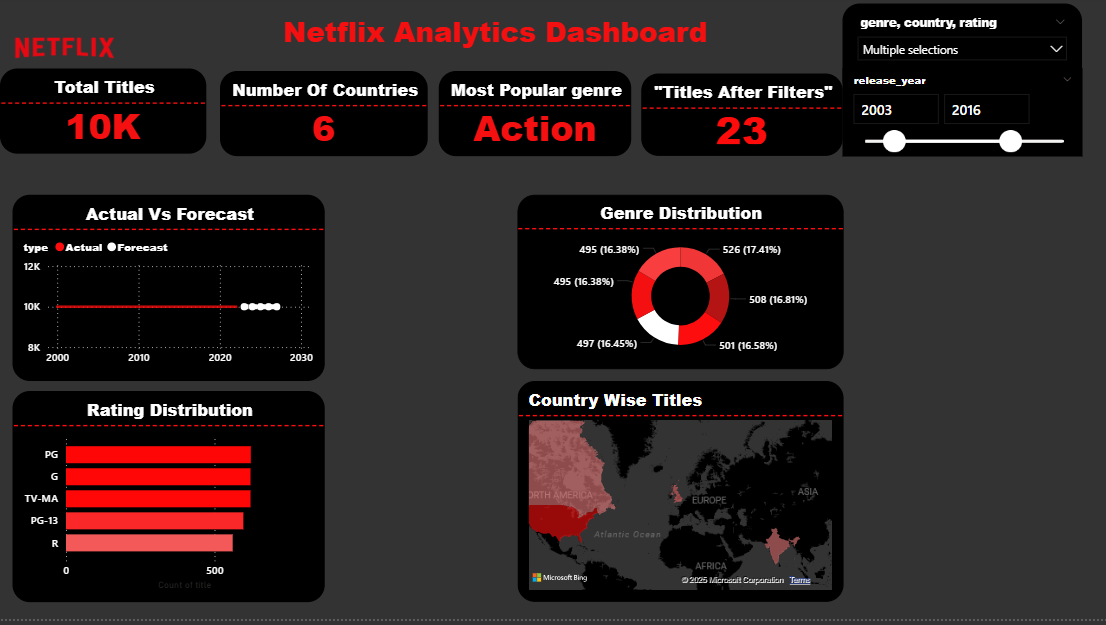

The page's visual inventory and layout, read from the dashboard file:
{"tool":"powerbi","page":{"name":"Dashboard","canvas":[1280,720],"ordinal":0},"visuals":[{"type":"card","title":"Total Titles","fields":{"Values":["Actual Vs Forecast.Total Titles"]},"box":[0,83.7,238.1,98.1],"z":0},{"type":"card","title":"Number Of Countries","fields":{"Values":["Actual Vs Forecast.Number of Countries"]},"box":[254.2,86.7,239.8,98.2],"z":1},{"type":"card","title":"Most Popular genre","fields":{"Values":["Actual Vs Forecast.Most Popular Genre"]},"box":[507,86.7,222.4,98.2],"z":3},{"type":"image","box":[0,0,150,116.9],"z":4},{"type":"textbox","box":[321.7,13,509.3,70.7],"z":5},{"type":"donutChart","title":"Genre Distribution","fields":{"Y":["CountNonNull(netflix_detail.genre)"],"Category":["netflix_detail.country"]},"box":[597.3,229.4,376.6,202],"z":6},{"type":"lineChart","title":"Actual Vs Forecast","fields":{"Category":["Actual Vs Forecast.release_year"],"Y":["Actual Vs Forecast.Total Titles"],"Series":["Actual Vs Forecast.type"]},"box":[14.4,229.4,360.7,215],"z":7},{"type":"clusteredBarChart","title":"Rating Distribution","fields":{"Category":["netflix_detail.rating"],"Y":["CountNonNull(netflix_detail.title)"]},"box":[14.4,455.9,360.7,243.8],"z":8},{"type":"filledMap","title":"Country Wise Titles","fields":{"Category":["netflix_detail.country"],"Y":["Count(netflix_detail.title)"]},"box":[597.3,444.4,376.6,255.4],"z":9},{"type":"slicer","fields":{"Values":["netflix_detail.genre","netflix_detail.country","netflix_detail.rating"]},"box":[973.9,8.7,277,108.2],"z":10},{"type":"slicer","fields":{"Values":["netflix_detail.release_year"]},"box":[973.9,83.7,277,101],"z":11},{"type":"card","title":"\"Titles After Filters\"","fields":{"Values":["Actual Vs Forecast.Total Titles (Dynamic)"]},"box":[741,89.6,232.5,95.3],"z":12}]}

Visuals, with their boxes in screenshot pixels (x1, y1, x2, y2), scaled from the page's 1280x720 canvas onto the 1106x625 screenshot:
"Total Titles" card: 0:73:206:158
"Number Of Countries" card: 220:75:427:161
"Most Popular genre" card: 438:75:630:161
image: 0:0:130:101
textbox: 278:11:718:73
"Genre Distribution" donutChart: 516:199:842:374
"Actual Vs Forecast" lineChart: 12:199:324:386
"Rating Distribution" clusteredBarChart: 12:396:324:607
"Country Wise Titles" filledMap: 516:386:842:607
slicer - netflix_detail.genre x netflix_detail.country: 842:8:1081:101
slicer - netflix_detail.release_year: 842:73:1081:160
""Titles After Filters"" card: 640:78:841:161
